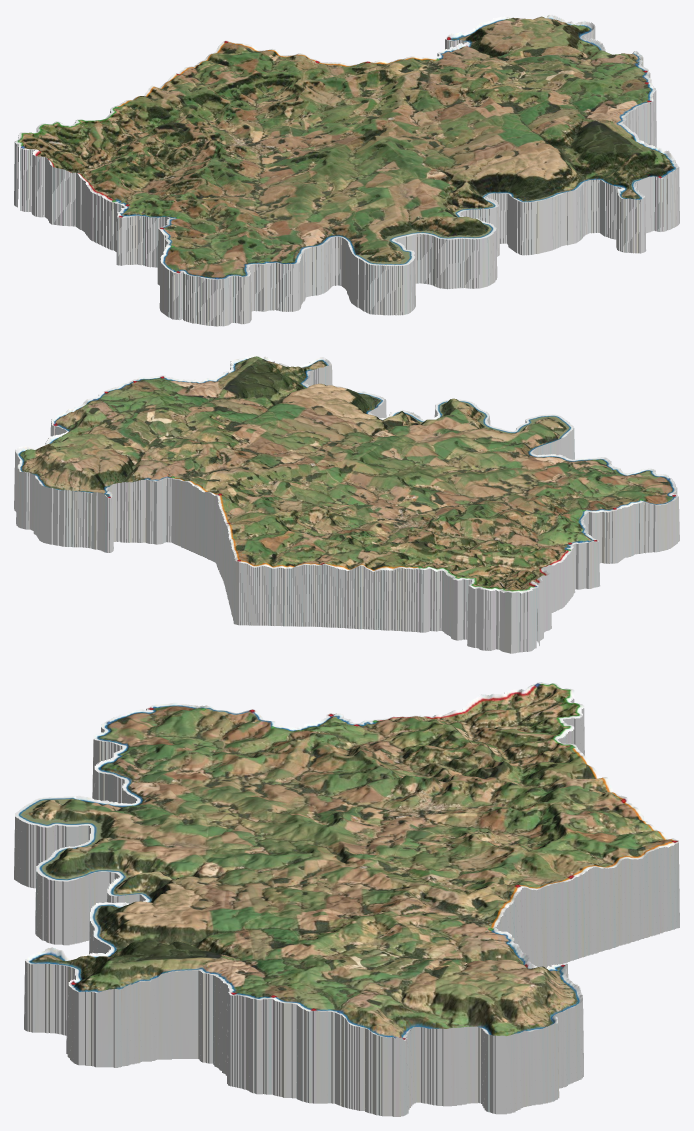
3 renders of one model, top to bottom at view 1: azimuth 30°, elevation 25°; view 2: azimuth 150°, elevation 25°; view 3: azimuth 270°, elevation 25°, orthographic. The views are drawn at different scales.
Size of the model in its own units: 1 by 0.128 by 0.7945.
1 material, 1 textured.
